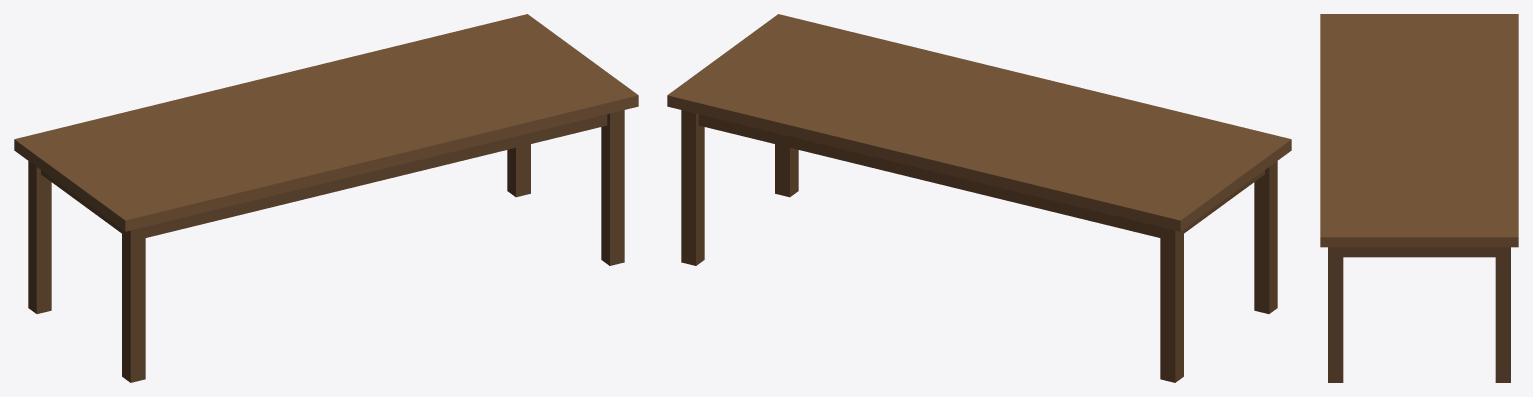
File: longtable.glb
The picture shows the model from 3 angles, left to right: view 1: azimuth 30°, elevation 25°; view 2: azimuth 150°, elevation 25°; view 3: azimuth 270°, elevation 25°; orthographic projection. The views are drawn at different scales.
Bounding box in the file's own units: 2.4 × 0.75 × 0.9.
